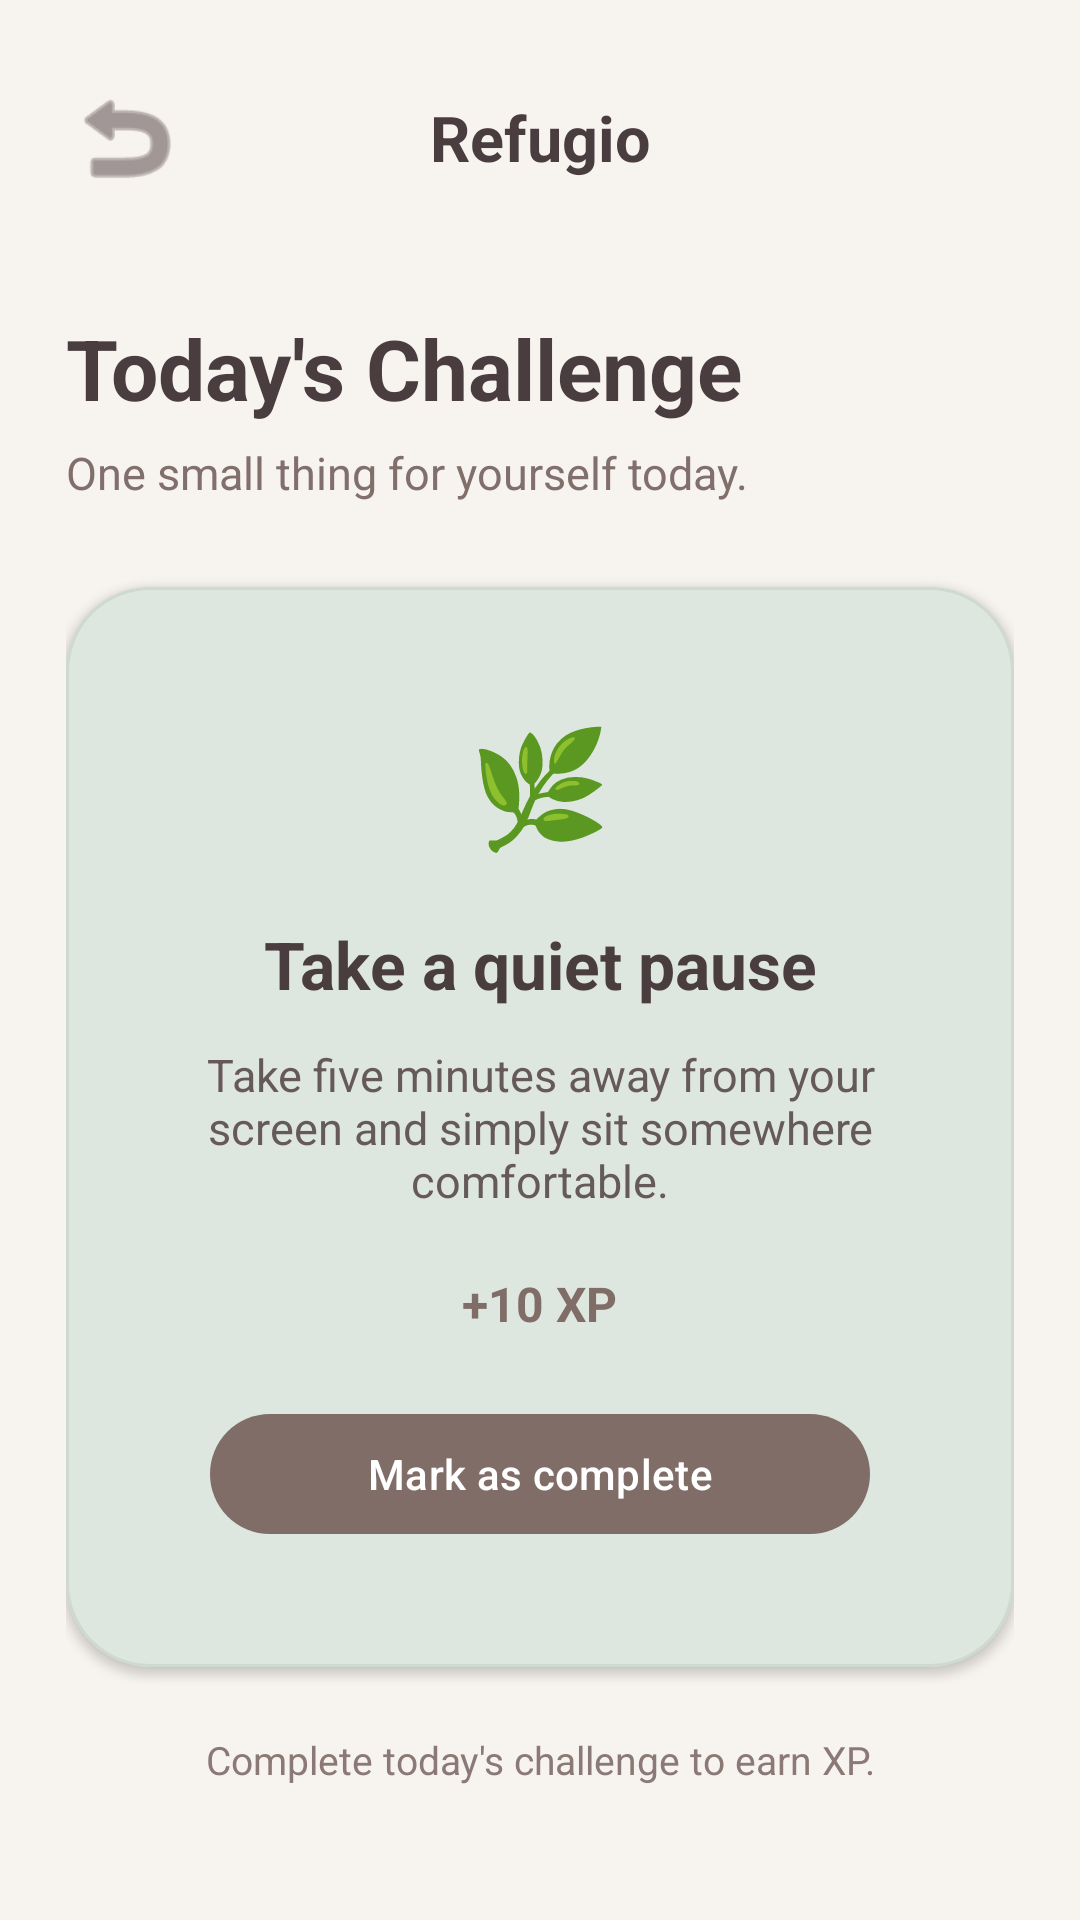

Icon bounding boxes for this 1080*1920 phone screenshot, format (x1, y1, x2, y2):
Back: (85, 100, 171, 178)
